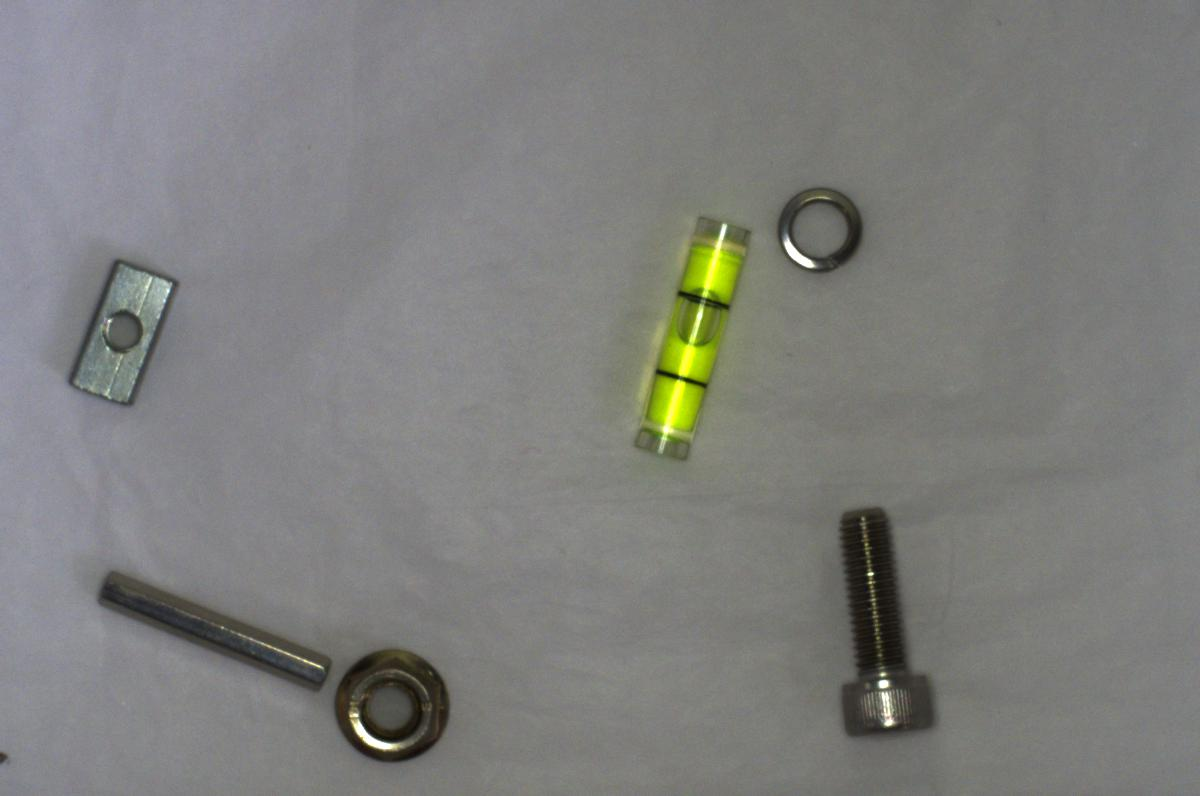Double hexagonal column: (94, 567, 332, 695)
Flange nut: (335, 642, 461, 760)
Hexagon screw: (817, 500, 948, 743)
Horizontal bubble: (624, 209, 754, 461)
Rectangular nut: (58, 254, 181, 414)
Spring washer: (759, 178, 865, 283)
